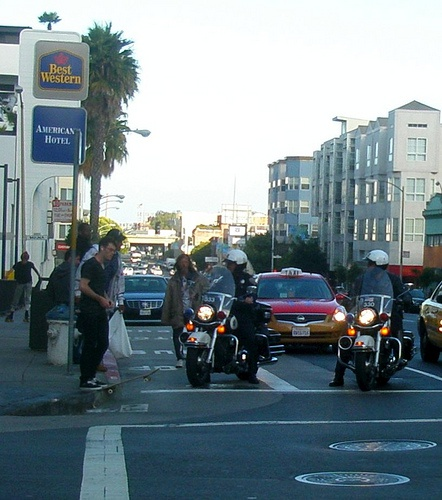non-vehicle: (180, 262, 279, 388), (337, 266, 416, 391)
